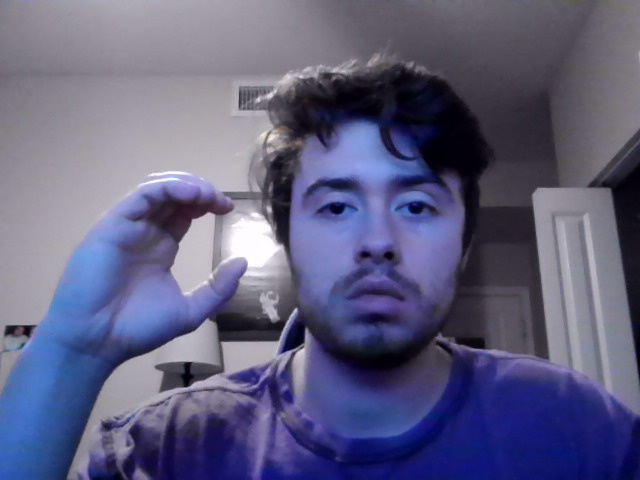c: (36, 170, 249, 372)
